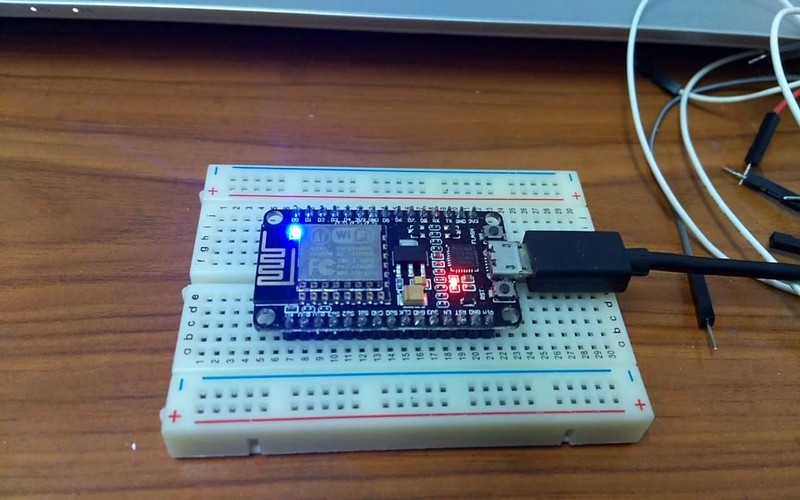IoT Sensor: (248, 192, 526, 343)
